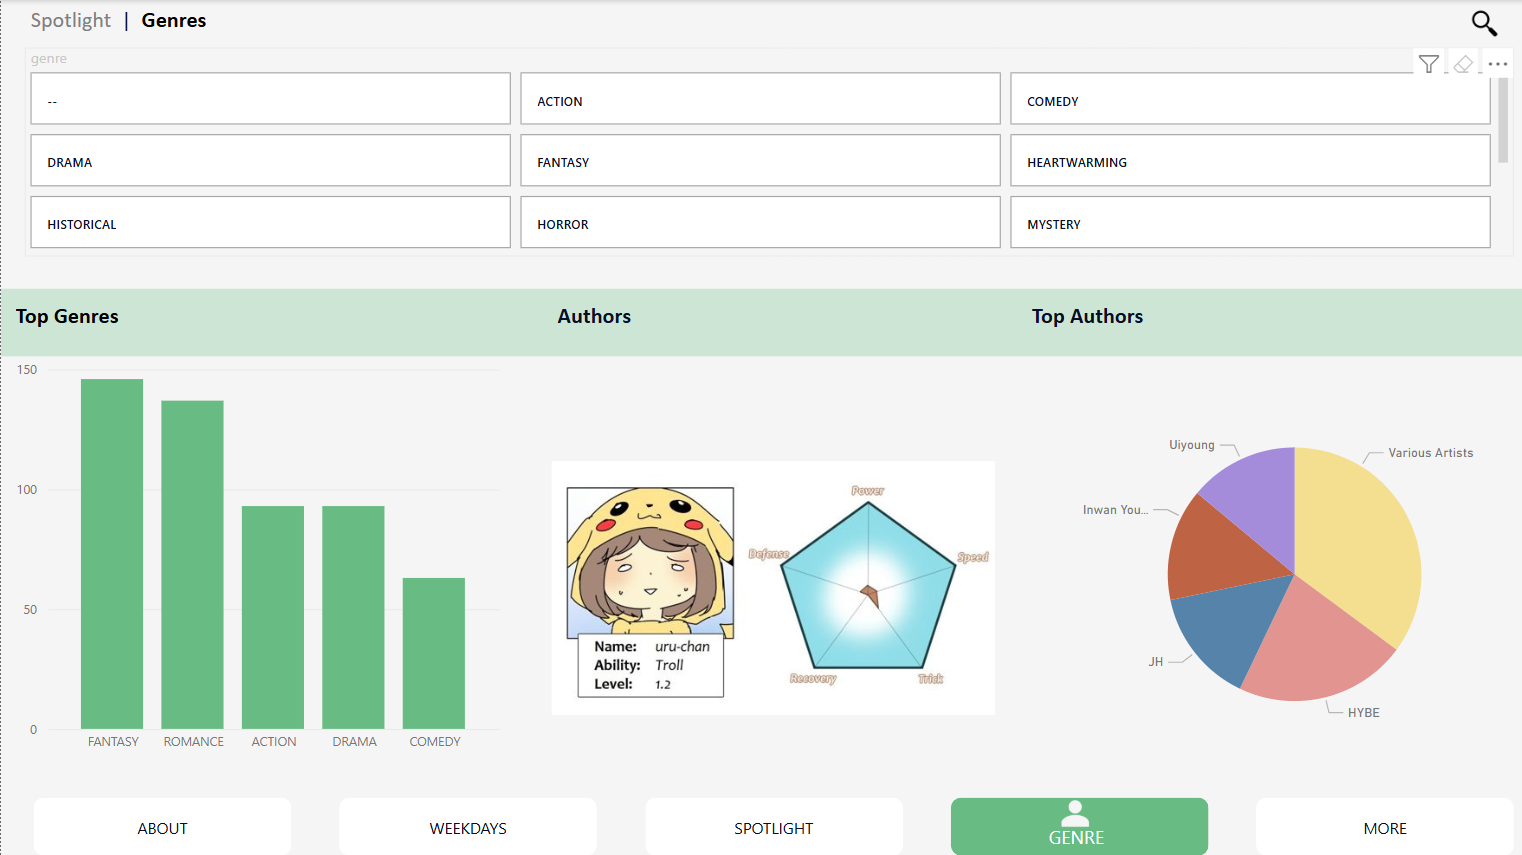

What the dashboard file says about the page in this screenshot:
{"tool":"powerbi","page":{"name":"Page 1","canvas":[1280,720],"ordinal":0},"visuals":[{"type":"lineChart","fields":{"Category":["webtoon_originals_en.weekdays"],"Y":["webtoon_originals_en.subscribers","webtoon_originals_en.likes"]},"box":[0,0,415.8,387],"z":0},{"type":"clusteredColumnChart","fields":{"Y":["webtoon_originals_en.subscribers"],"Category":["webtoon_originals_en.title"]},"box":[0,397,416,323],"z":1000},{"type":"columnChart","fields":{"Category":["webtoon_originals_en.genre"],"Y":["webtoon_originals_en.title"]},"box":[863.1,0,417.2,387],"z":2000},{"type":"tableEx","fields":{"Values":["webtoon_originals_en.synopsis"]},"box":[415.8,440.5,417.2,161.9],"z":3000},{"type":"pieChart","fields":{"Category":["webtoon_originals_en.genre"],"Y":["webtoon_originals_en.title_id"]},"box":[863.1,440.5,417.2,278.6],"z":4000},{"type":"pieChart","fields":{"Category":["webtoon_originals_en.status"]},"box":[416,0,417,387],"z":5000}]}

Visuals, with their boxes on the page's 1280x720 design canvas (x1, y1, x2, y2). These are canvas units, not pixel positions in the 1522x855 screenshot, which may show the page scaled, cropped or inside an application window:
lineChart - webtoon_originals_en.weekdays x webtoon_originals_en.subscribers: x1=0, y1=0, x2=416, y2=387
clusteredColumnChart - webtoon_originals_en.subscribers x webtoon_originals_en.title: x1=0, y1=397, x2=416, y2=720
columnChart - webtoon_originals_en.genre x webtoon_originals_en.title: x1=863, y1=0, x2=1280, y2=387
tableEx - webtoon_originals_en.synopsis: x1=416, y1=440, x2=833, y2=602
pieChart - webtoon_originals_en.genre x webtoon_originals_en.title_id: x1=863, y1=440, x2=1280, y2=719
pieChart - webtoon_originals_en.status: x1=416, y1=0, x2=833, y2=387
